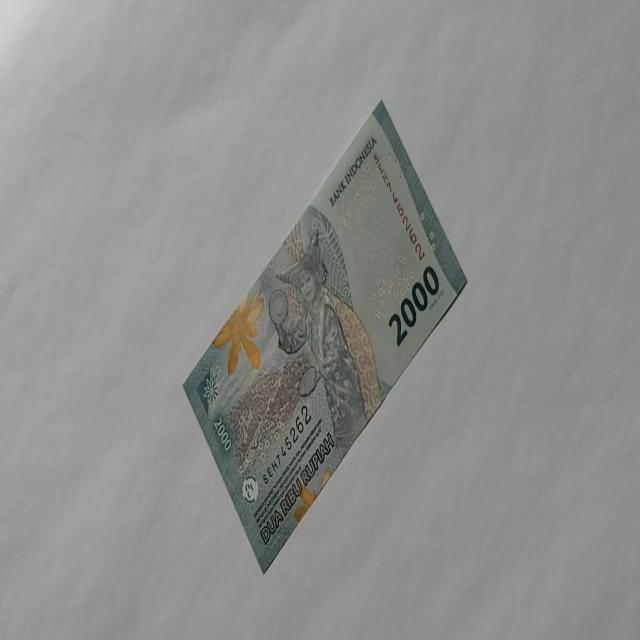dua ribu rupiah: (182, 97, 468, 574), (268, 228, 382, 462)
